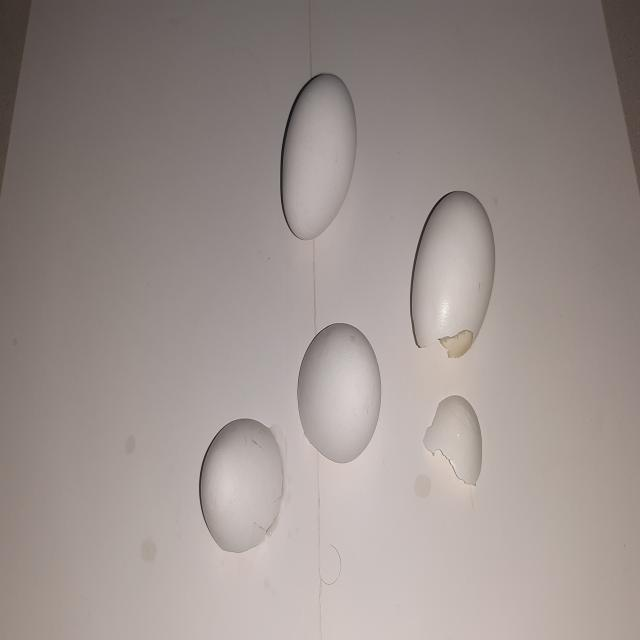egg shell: (408, 185, 498, 366), (278, 66, 360, 245), (294, 318, 386, 473), (198, 412, 288, 558), (420, 390, 486, 496)
